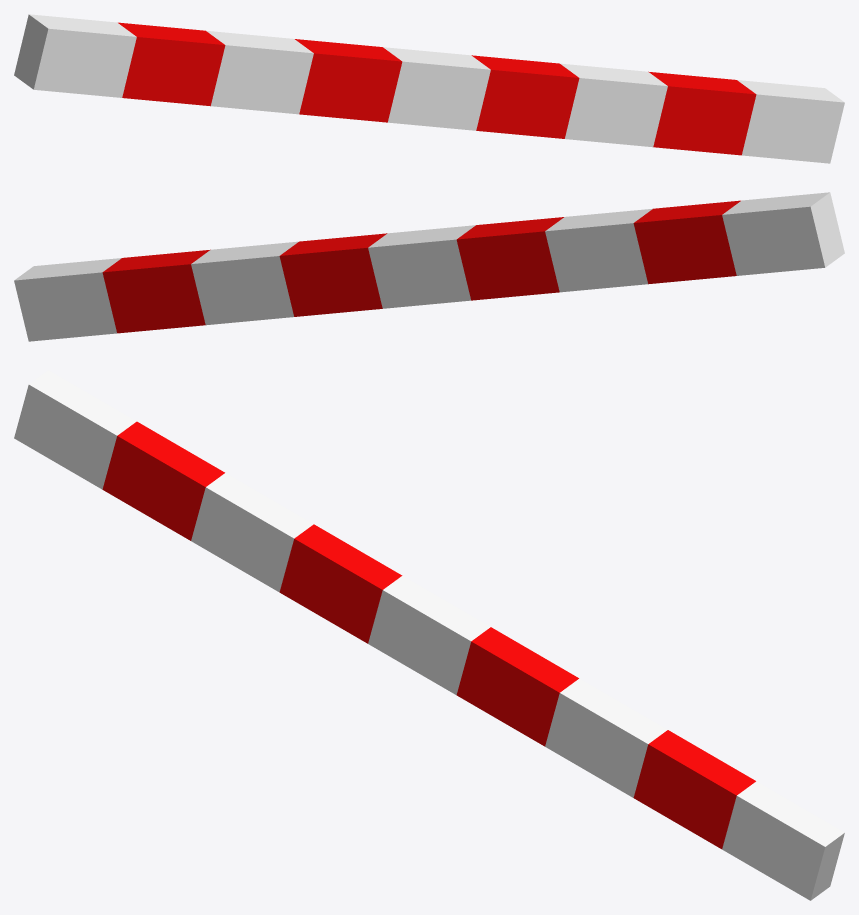
Rendered from Wood plank.fbx.
The picture shows the model from 3 angles, top to bottom: view 1: azimuth 30°, elevation 25°; view 2: azimuth 150°, elevation 25°; view 3: azimuth 330°, elevation 25°; orthographic projection.
Parts seen in each view (by area): view 1: Wood plank [Plane]; view 2: Wood plank [Plane]; view 3: Wood plank [Plane].
Part boxes in pixels (<box>): Wood plank [Plane]: <box>14,14,844,163</box>; Wood plank [Plane]: <box>14,192,844,341</box>; Wood plank [Plane]: <box>14,370,844,900</box>.
Size of the model in its own units: 124 by 47.75 by 5.23.
